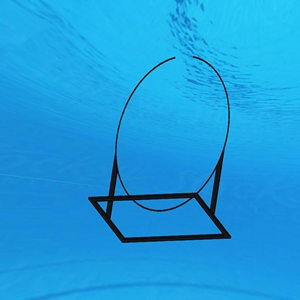circle: (89, 53, 236, 247)
